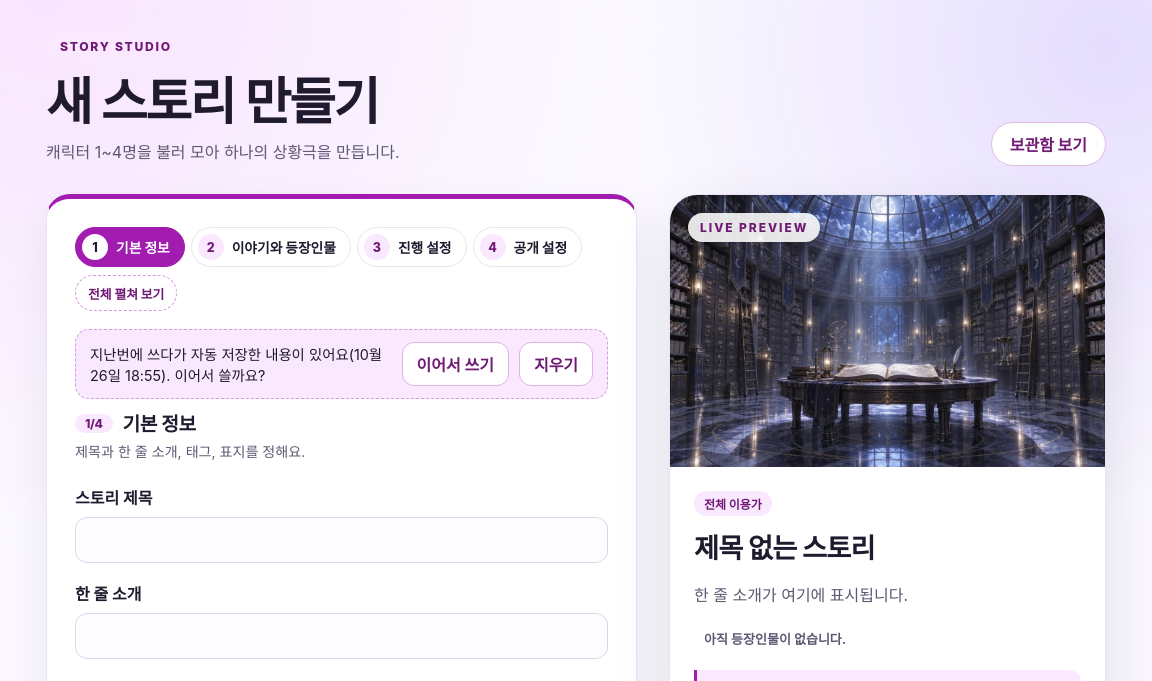
Test: 스토리 편집기 › 필수값이 비면 오류를 한 번에 알리고 저장하지 않는다
Click the button "전체 펼쳐 보기": (126, 293) x1=75 y1=275 x2=177 y2=311
(page scrolled)
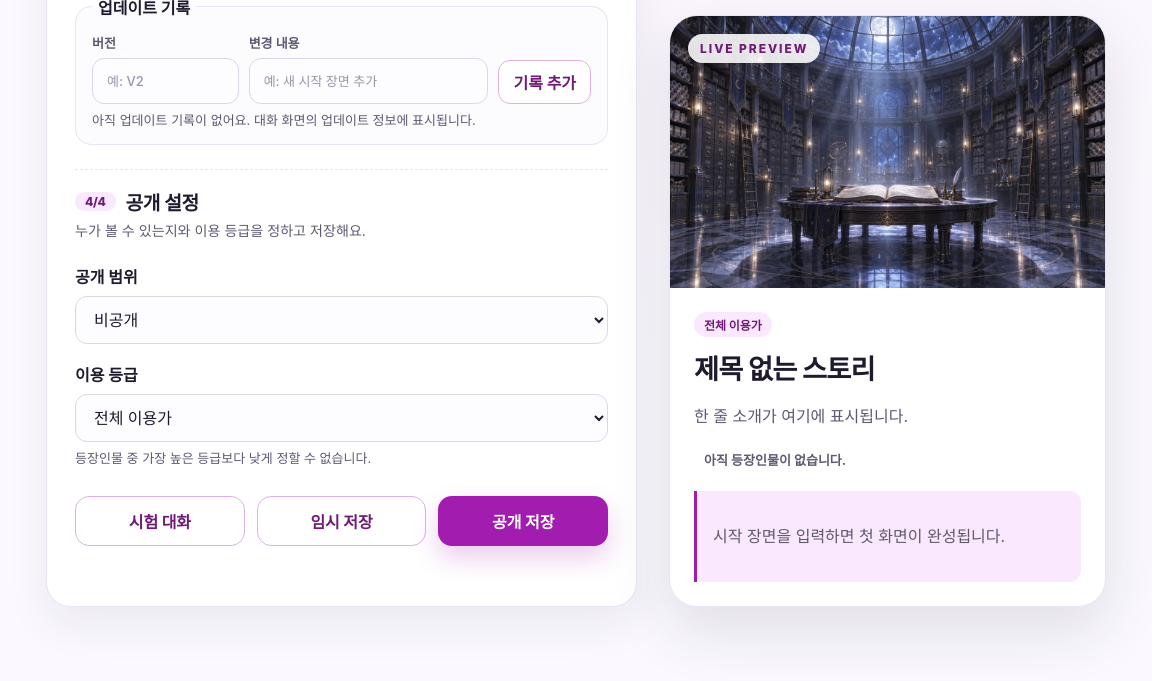
Click the button "임시 저장": (342, 521) x1=257 y1=496 x2=426 y2=546
(page scrolled)
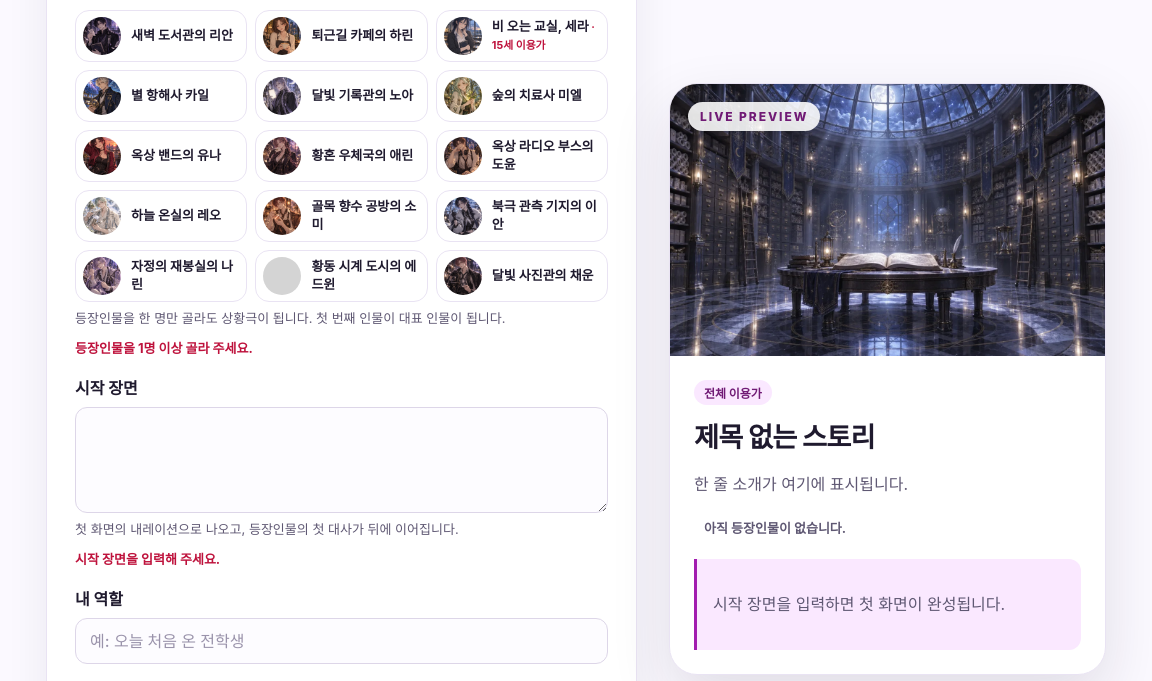
Now the text "등장인물을 1명 이상 골라 주세요." is shown, box x1=75 y1=340 x2=253 y2=356
